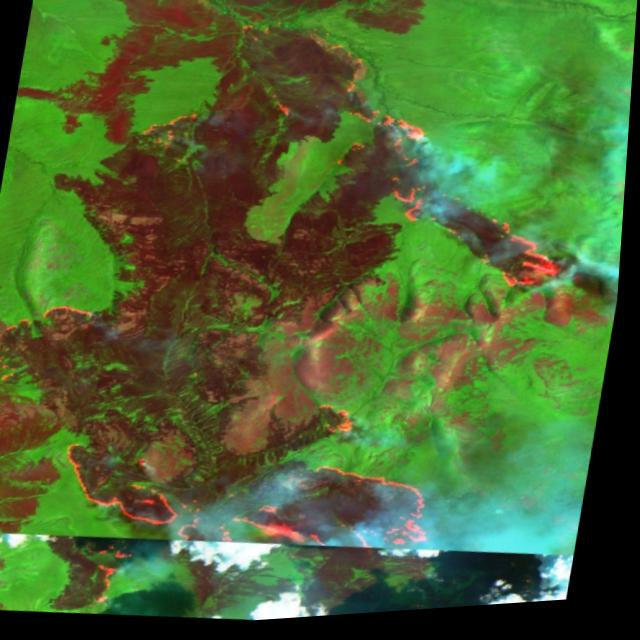fire: (328, 95, 597, 320), (208, 387, 479, 576), (39, 418, 212, 541), (0, 279, 104, 385), (124, 99, 207, 158)
